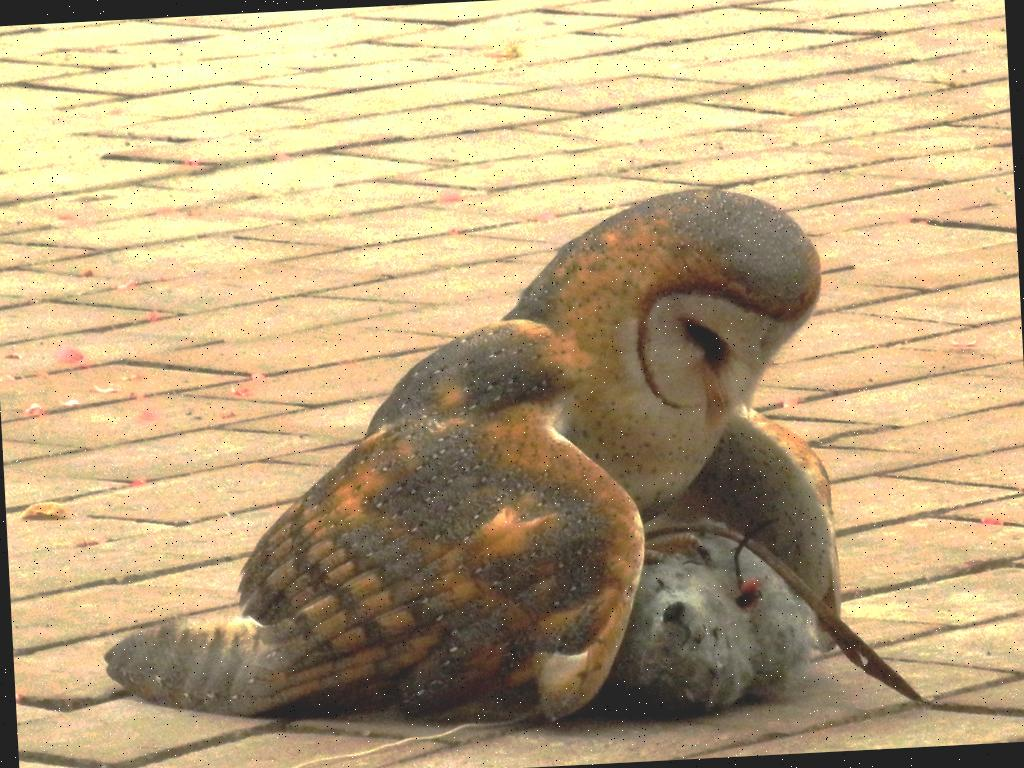Owl: (82, 173, 929, 748)
